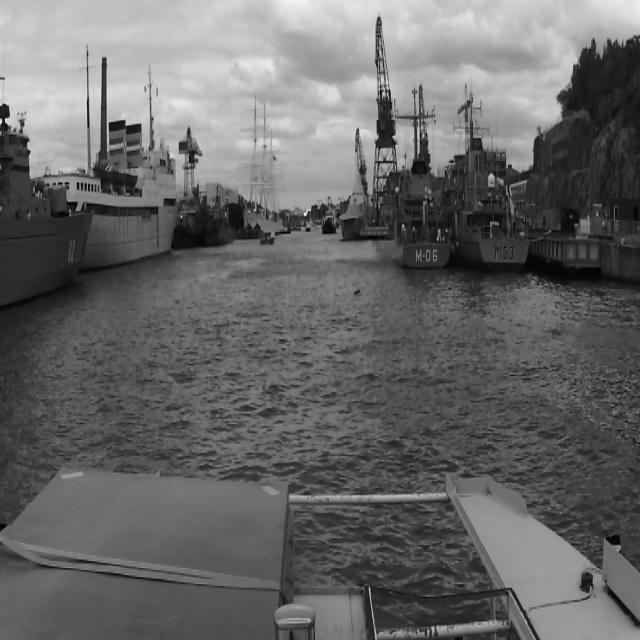ship: (3, 103, 89, 310), (91, 120, 176, 276), (454, 138, 530, 266), (404, 136, 450, 268), (244, 90, 284, 238), (178, 194, 232, 250), (343, 178, 365, 239), (322, 197, 336, 234), (261, 231, 275, 245), (304, 221, 312, 232)
